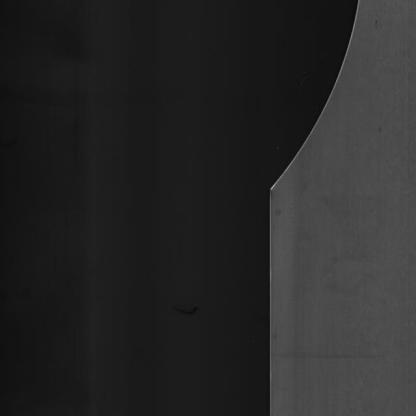crescent_gap: (237, 0, 372, 197)
